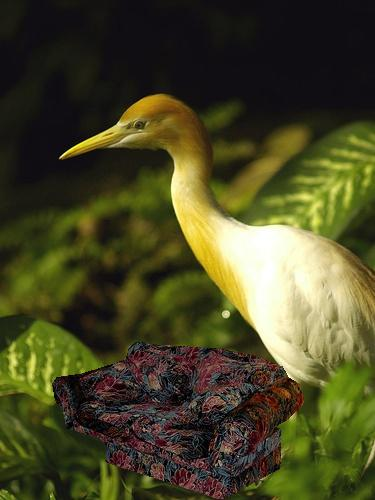tampered: (53, 342, 304, 499)
